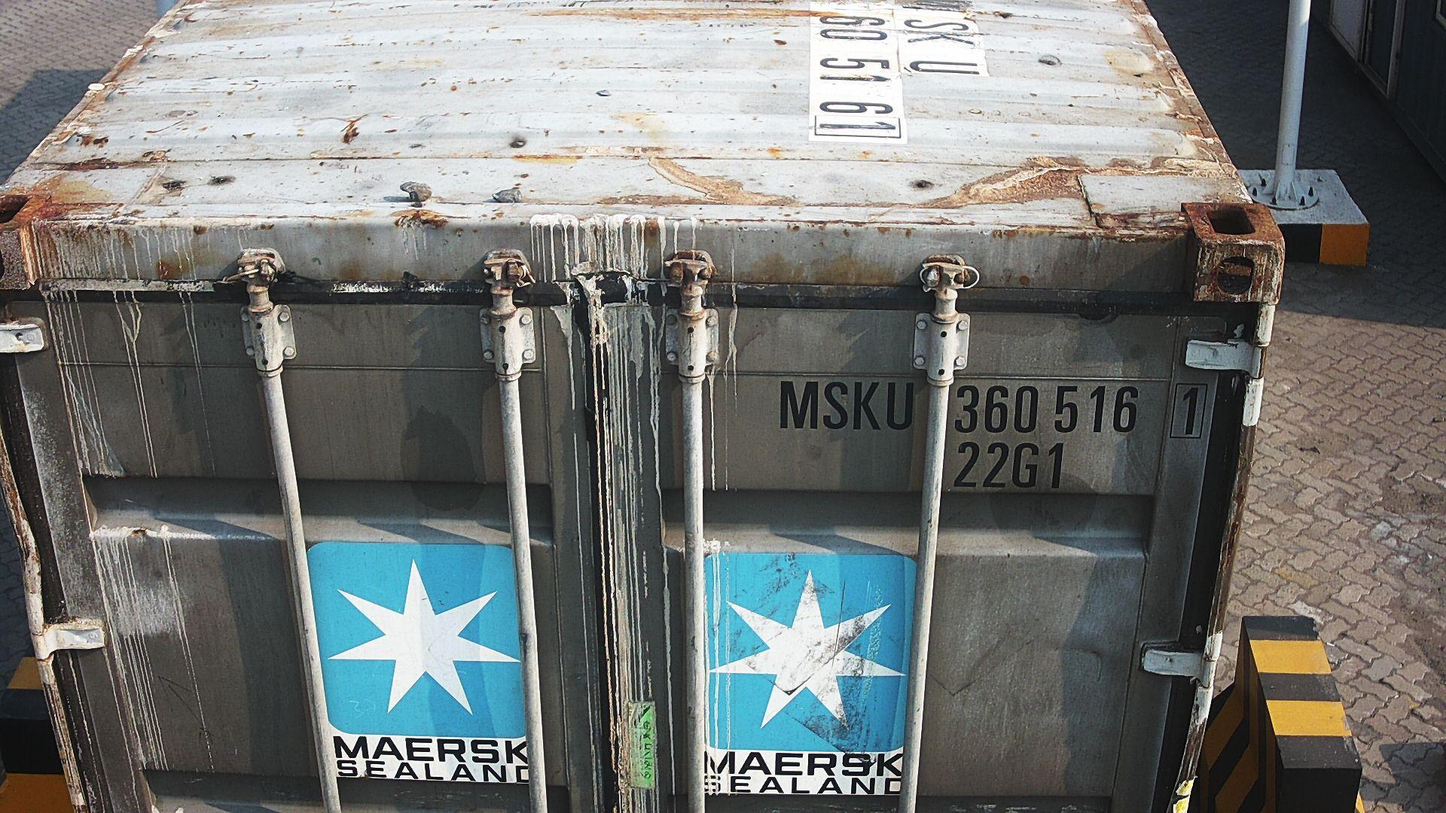container-numbers: (775, 376, 1218, 445), (951, 438, 1070, 492)
